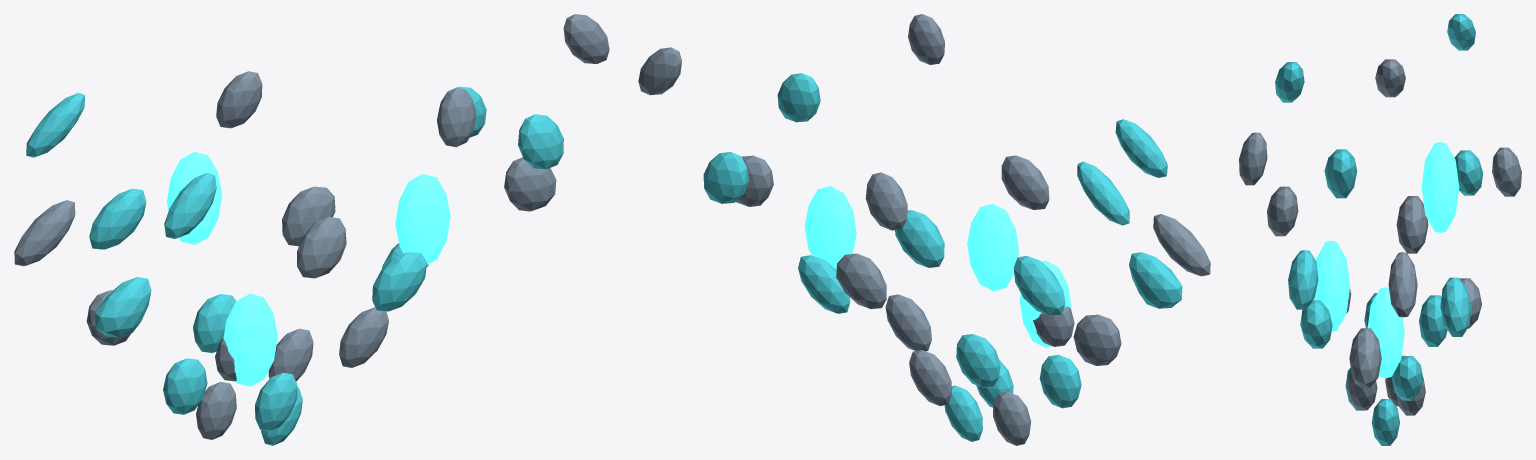
Rendered from swarm_v7.glb.
3 views of the same model, side by side, from view 1: azimuth 30°, elevation 25°; view 2: azimuth 150°, elevation 25°; view 3: azimuth 270°, elevation 25° (orthographic). The views are drawn at different scales.
Visible parts, largest first — view 1: ORBIT_SHARD_EMISSIVE.002, ORBIT_SHARD_EMISSIVE, SWARM_BODY_ACCENT.006, SWARM_BODY_PRIMARY.007, SWARM_BODY_ACCENT.005, SWARM_BODY_ACCENT.007, SWARM_BODY_PRIMARY.008, SWARM_BODY_ACCENT.010, ORBIT_SHARD_EMISSIVE.001, SWARM_BODY_PRIMARY.006, SWARM_BODY_PRIMARY.002, SWARM_BODY_ACCENT.009 (+13 smaller); view 2: ORBIT_SHARD_EMISSIVE.001, ORBIT_SHARD_EMISSIVE, SWARM_BODY_ACCENT.007, SWARM_BODY_ACCENT.006, SWARM_BODY_PRIMARY.005, SWARM_BODY_PRIMARY.008, SWARM_BODY_ACCENT.005, SWARM_BODY_PRIMARY.004, SWARM_BODY_PRIMARY.007, SWARM_BODY_ACCENT.008, SWARM_BODY_ACCENT.004, SWARM_BODY_PRIMARY.009 (+15 smaller); view 3: ORBIT_SHARD_EMISSIVE.001, ORBIT_SHARD_EMISSIVE.002, ORBIT_SHARD_EMISSIVE, SWARM_BODY_PRIMARY.006, SWARM_BODY_PRIMARY.010, SWARM_BODY_ACCENT.008, SWARM_BODY_PRIMARY.004, SWARM_BODY_ACCENT.009, SWARM_BODY_ACCENT.006, SWARM_BODY_PRIMARY.007, SWARM_BODY_ACCENT.005, SWARM_BODY_PRIMARY.011 (+11 smaller).
Boxes of the visible parts, bbox=[...] form: ORBIT_SHARD_EMISSIVE.002: bbox=[223, 293, 277, 386]; ORBIT_SHARD_EMISSIVE: bbox=[395, 174, 450, 264]; SWARM_BODY_ACCENT.006: bbox=[95, 277, 151, 337]; SWARM_BODY_PRIMARY.007: bbox=[297, 216, 346, 278]; SWARM_BODY_ACCENT.005: bbox=[372, 252, 426, 311]; SWARM_BODY_ACCENT.007: bbox=[89, 188, 146, 249]; SWARM_BODY_PRIMARY.008: bbox=[14, 200, 75, 266]; SWARM_BODY_ACCENT.010: bbox=[164, 172, 216, 238]; ORBIT_SHARD_EMISSIVE.001: bbox=[167, 152, 222, 244]; SWARM_BODY_PRIMARY.006: bbox=[504, 157, 556, 211]; SWARM_BODY_PRIMARY.002: bbox=[339, 307, 388, 367]; SWARM_BODY_ACCENT.009: bbox=[518, 114, 563, 169]; ORBIT_SHARD_EMISSIVE.001: bbox=[967, 204, 1019, 291]; ORBIT_SHARD_EMISSIVE: bbox=[804, 186, 856, 269]; SWARM_BODY_ACCENT.007: bbox=[1014, 256, 1065, 315]; SWARM_BODY_ACCENT.006: bbox=[1129, 252, 1182, 308]; SWARM_BODY_PRIMARY.005: bbox=[836, 253, 886, 309]; SWARM_BODY_PRIMARY.008: bbox=[1153, 214, 1210, 276]; SWARM_BODY_ACCENT.005: bbox=[895, 210, 944, 267]; SWARM_BODY_PRIMARY.004: bbox=[1073, 314, 1121, 365]; SWARM_BODY_PRIMARY.007: bbox=[1001, 155, 1049, 209]; SWARM_BODY_ACCENT.008: bbox=[703, 152, 748, 203]; SWARM_BODY_ACCENT.004: bbox=[798, 255, 850, 313]; SWARM_BODY_PRIMARY.009: bbox=[865, 172, 907, 230]; ORBIT_SHARD_EMISSIVE.001: bbox=[1421, 142, 1459, 232]; ORBIT_SHARD_EMISSIVE.002: bbox=[1314, 240, 1350, 331]; ORBIT_SHARD_EMISSIVE: bbox=[1367, 287, 1404, 378]; SWARM_BODY_PRIMARY.006: bbox=[1349, 328, 1381, 387]; SWARM_BODY_PRIMARY.010: bbox=[1388, 252, 1417, 317]; SWARM_BODY_ACCENT.008: bbox=[1440, 277, 1471, 336]; SWARM_BODY_PRIMARY.004: bbox=[1396, 196, 1428, 253]; SWARM_BODY_ACCENT.009: bbox=[1288, 250, 1318, 309]; SWARM_BODY_ACCENT.006: bbox=[1324, 149, 1357, 198]; SWARM_BODY_PRIMARY.007: bbox=[1267, 186, 1298, 236]; SWARM_BODY_ACCENT.005: bbox=[1300, 300, 1332, 348]; SWARM_BODY_PRIMARY.011: bbox=[1239, 132, 1267, 185].
Size of the model in its own units: 3.23 by 1.94 by 1.35.
